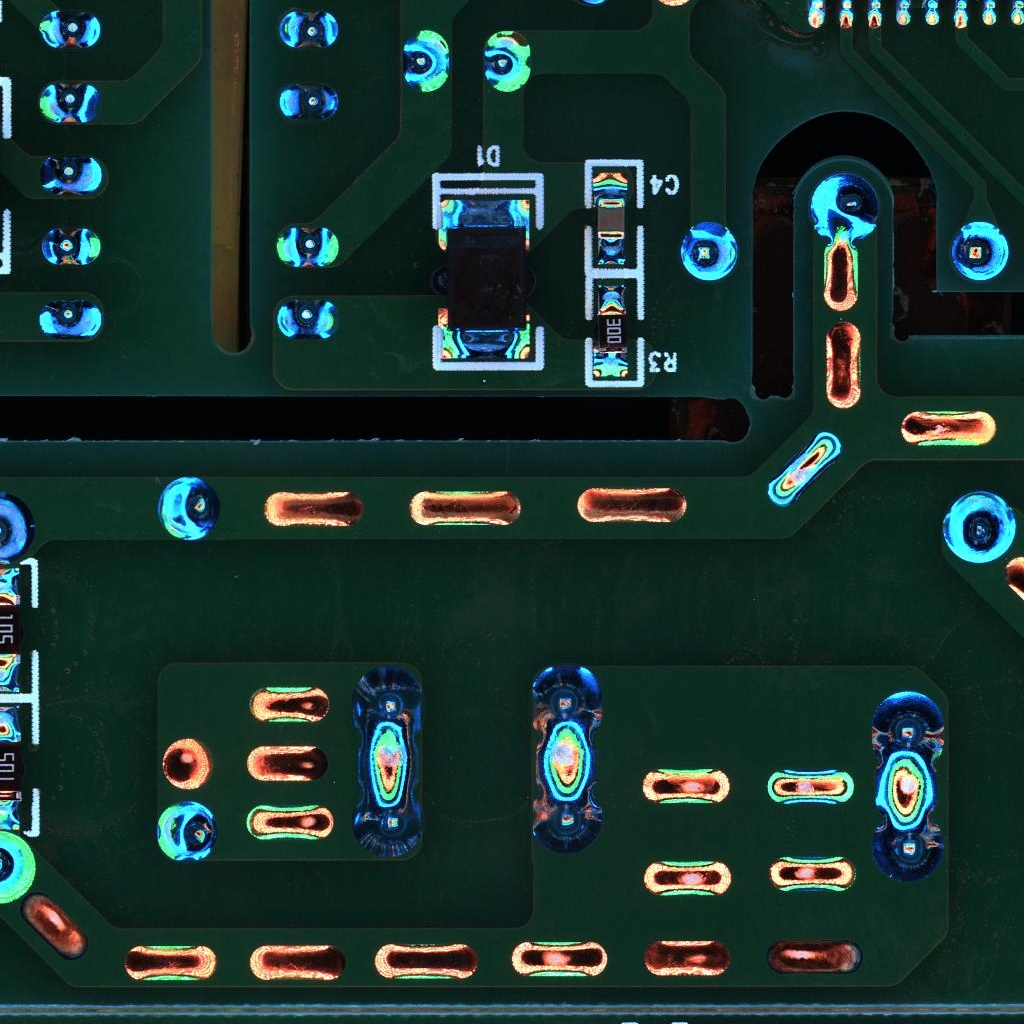spot: (940, 491, 1019, 569), (867, 687, 946, 764), (526, 783, 604, 855), (349, 664, 422, 740), (529, 663, 604, 734), (873, 807, 947, 878), (351, 791, 426, 859), (808, 172, 880, 242), (154, 474, 222, 547), (676, 219, 741, 285), (154, 800, 219, 865), (948, 217, 1010, 282), (396, 27, 449, 93), (481, 28, 532, 95), (38, 80, 104, 128), (273, 298, 340, 345), (271, 223, 338, 269), (1, 827, 38, 909), (33, 7, 103, 50), (37, 295, 102, 339), (35, 152, 102, 194), (275, 8, 341, 49), (38, 225, 103, 266), (275, 81, 341, 121), (1, 490, 36, 564)
